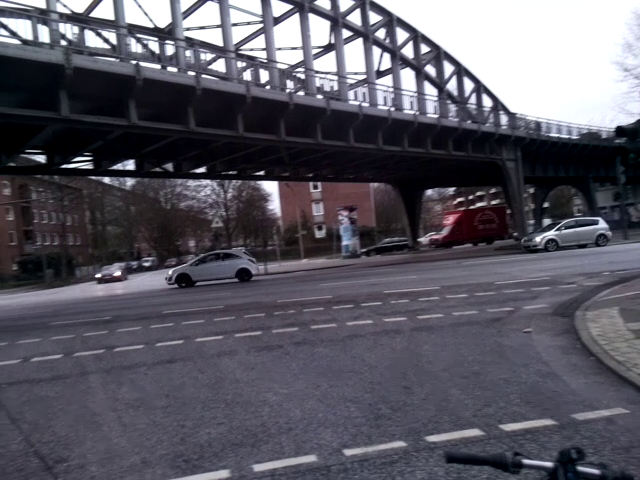car: (163, 245, 264, 295)
